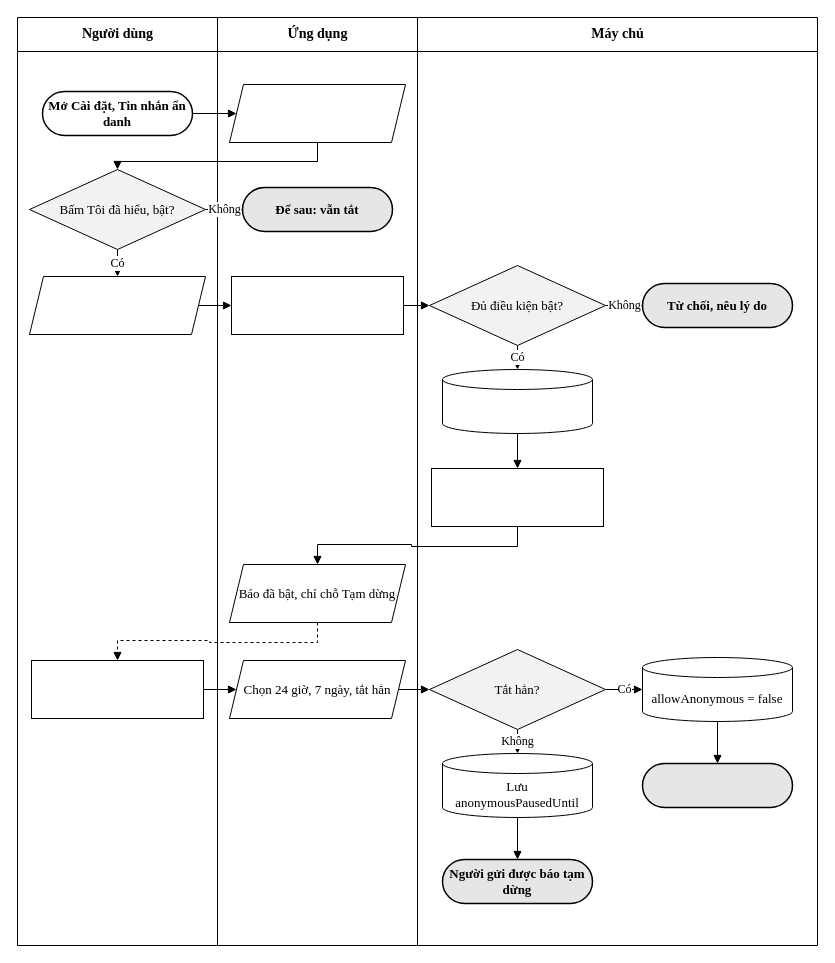
Image size: 835x963. Some labels were removed from this diagram. Each missing label, with the box of its shape:
Chọn ai được nhắn, giới hạn ngày: (28, 276, 206, 334)
Gửi cài đặt lên máy chủ: (230, 276, 404, 334)
Hồ sơ hiện nút Nhắn ẩn danh: (430, 468, 604, 526)
Hội thoại cũ chỉ còn đọc: (641, 762, 793, 808)
Lưu cài đặt, giờ đồng ý: (442, 368, 592, 434)
Màn rủi ro và cách bảo vệ: (228, 84, 406, 142)
Sau này: bấm Tạm dừng hoặc Tắt: (30, 660, 204, 718)
